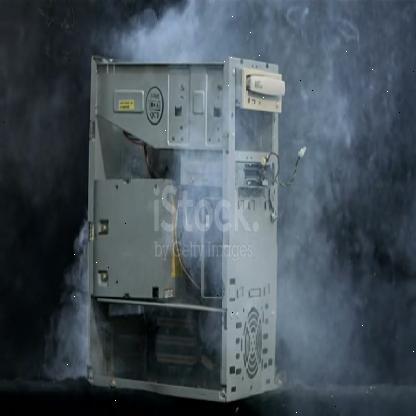smoke: (51, 5, 416, 416)
